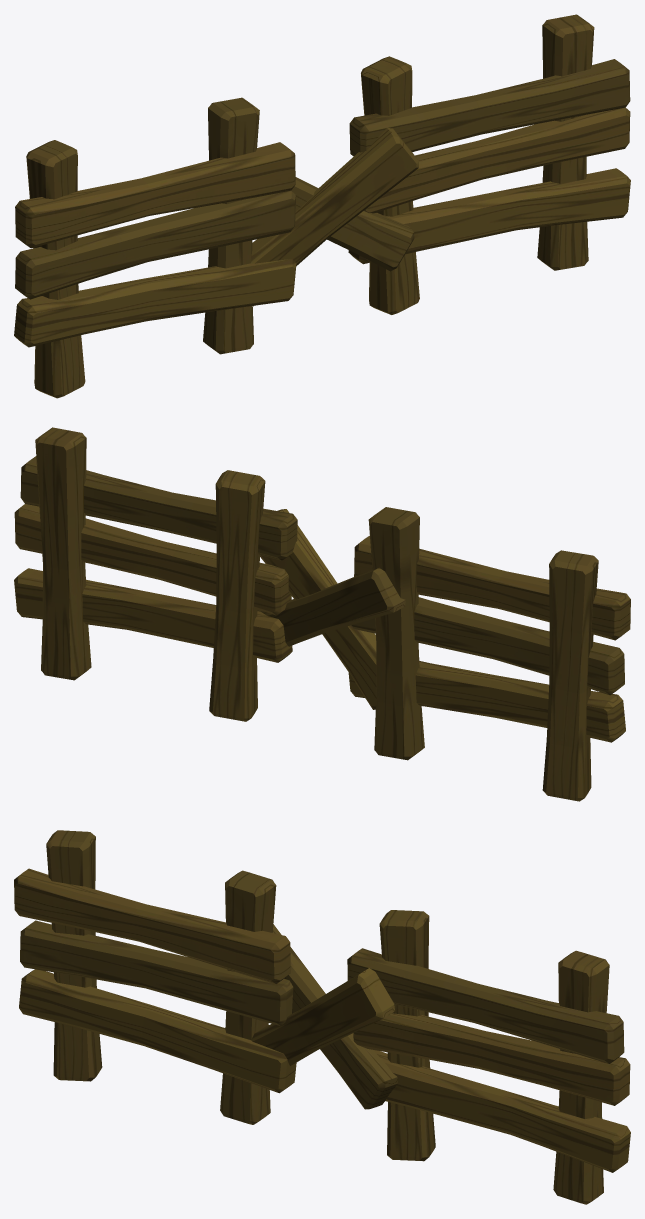
File: SM_WoodenFence.glb
3 renders of one model, top to bottom at view 1: azimuth 30°, elevation 25°; view 2: azimuth 150°, elevation 25°; view 3: azimuth 330°, elevation 25°, orthographic.
Visible parts, largest first — view 1: SM_WoodenFence; view 2: SM_WoodenFence; view 3: SM_WoodenFence.
Boxes of the visible parts, <box> form: SM_WoodenFence: <box>14,14,630,398</box>; SM_WoodenFence: <box>14,427,630,801</box>; SM_WoodenFence: <box>14,830,630,1204</box>.
Bounding box in the file's own units: 3 × 1.14 × 0.3801.
1 material, 1 textured.
